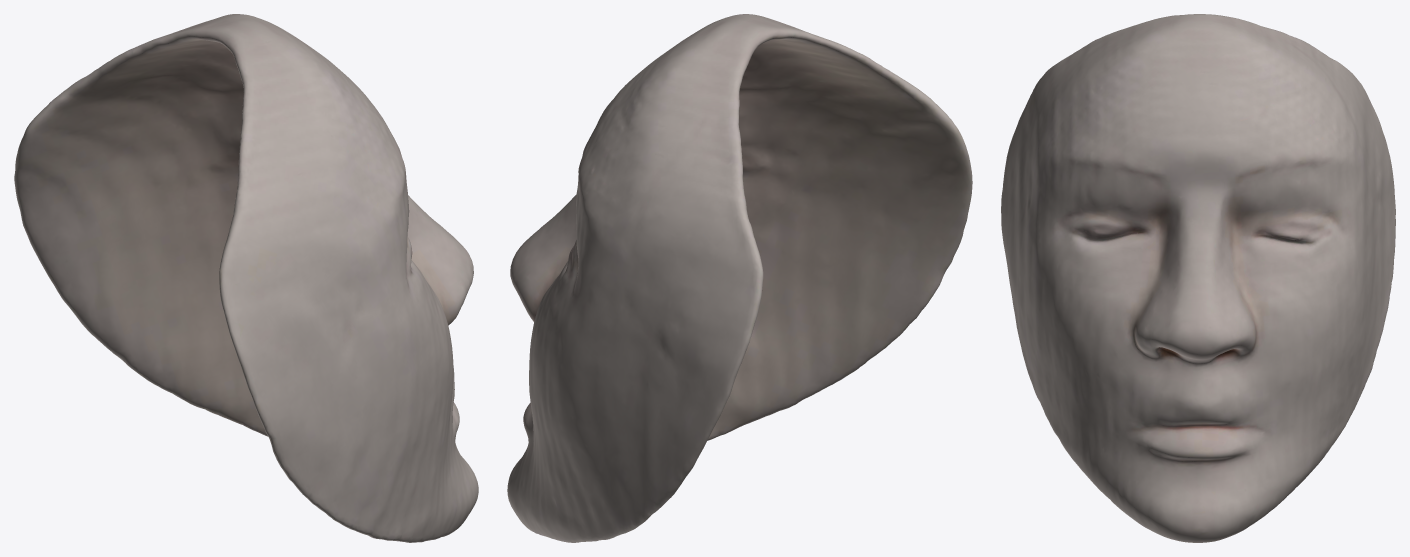
Rendered from 36ae90d073d0_human_face_sculptur.fbx.
The picture shows the model from 3 angles, left to right: view 1: azimuth 30°, elevation 25°; view 2: azimuth 150°, elevation 25°; view 3: azimuth 270°, elevation 25°; orthographic projection. The views are drawn at different scales.
Visible parts, largest first — view 1: high_poly; view 2: high_poly; view 3: high_poly.
Boxes of the visible parts, x1,y1,x2,y2 form: high_poly: [14, 14, 478, 542]; high_poly: [507, 14, 972, 542]; high_poly: [1001, 14, 1395, 542].
Size of the model in its own units: 68.99 by 100 by 81.15.
